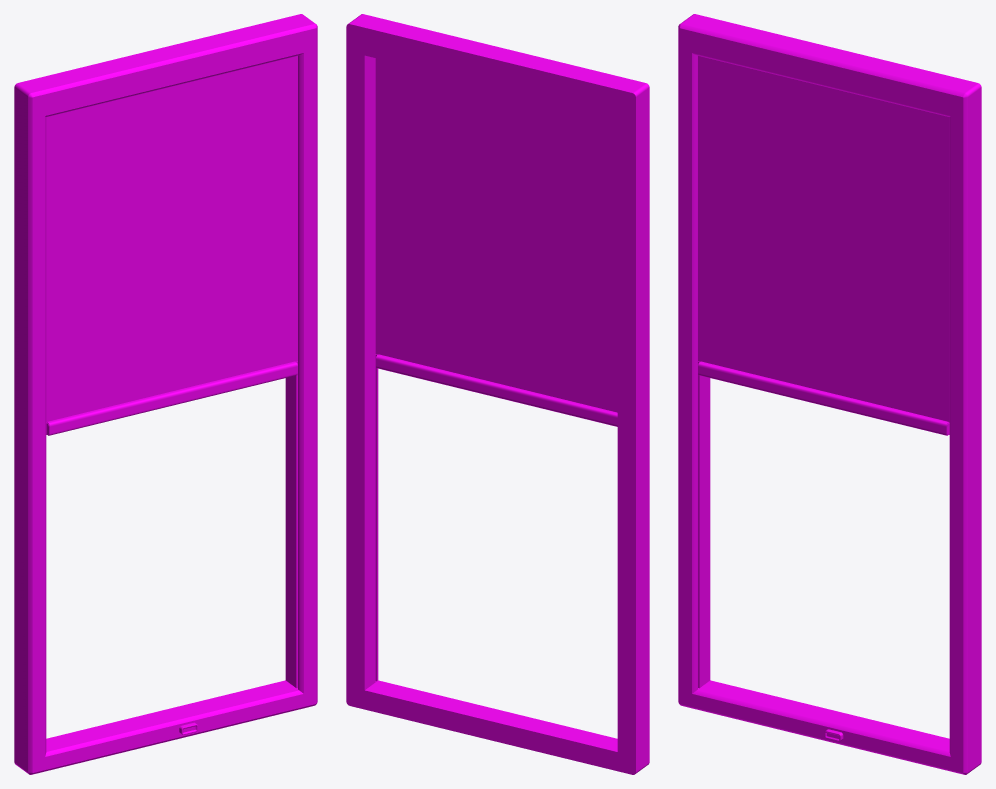
The model's file is chuangsha.glb.
3 views of the same model, side by side, from view 1: azimuth 30°, elevation 25°; view 2: azimuth 150°, elevation 25°; view 3: azimuth 330°, elevation 25° (orthographic).
Visible parts, largest first — view 1: 2026.05.26_test.005, 2026.05.26_test, 2026.05.26_test.003, 2026.05.26_test.002; view 2: 2026.05.26_test.005, 2026.05.26_test, 2026.05.26_test.003; view 3: 2026.05.26_test.005, 2026.05.26_test, 2026.05.26_test.003, 2026.05.26_test.002.
Part boxes in pixels (x1,y1,x2,y2): 2026.05.26_test.005: [46, 56, 297, 422]; 2026.05.26_test: [14, 14, 317, 774]; 2026.05.26_test.003: [47, 361, 297, 435]; 2026.05.26_test.002: [66, 732, 150, 762]; 2026.05.26_test.005: [375, 58, 617, 412]; 2026.05.26_test: [346, 14, 649, 774]; 2026.05.26_test.003: [376, 354, 617, 426]; 2026.05.26_test.005: [698, 56, 949, 422]; 2026.05.26_test: [678, 14, 981, 774]; 2026.05.26_test.003: [698, 361, 948, 435]; 2026.05.26_test.002: [713, 700, 797, 730].
Size of the model in its own units: 0.6 by 1.35 by 0.063.
